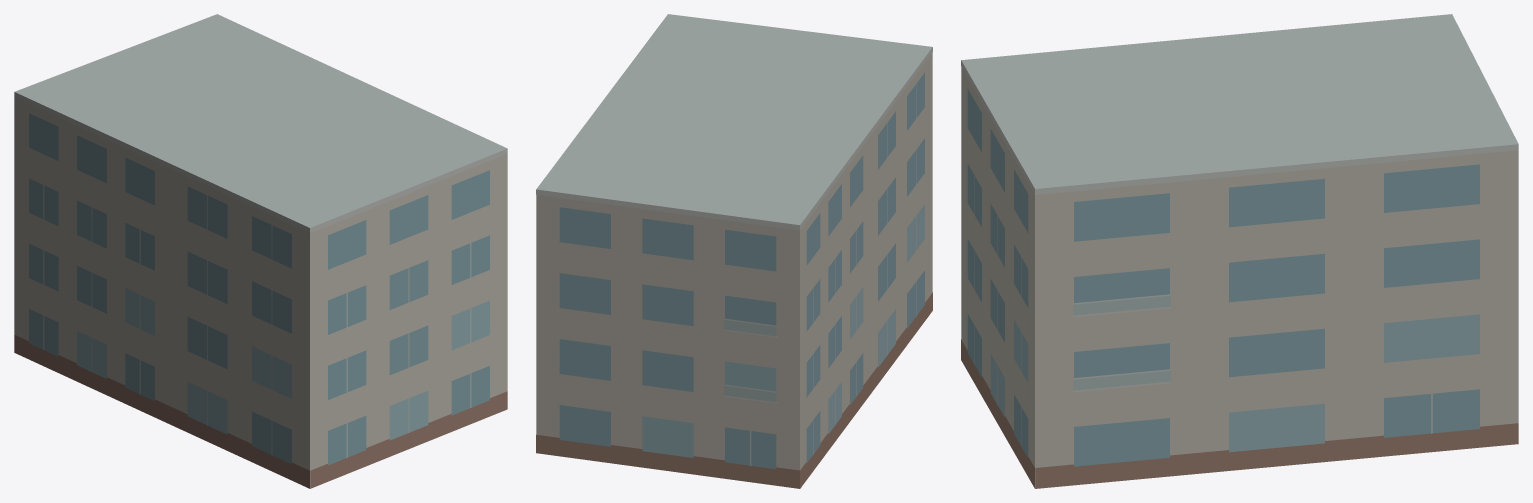
Rendered from survey-upis-33040755.glb.
The picture shows the model from 3 angles, left to right: view 1: azimuth 30°, elevation 25°; view 2: azimuth 150°, elevation 25°; view 3: azimuth 270°, elevation 25°; orthographic projection. The views are drawn at different scales.
Visible parts, largest first — view 1: survey-upis-33040755.tmp; view 2: survey-upis-33040755.tmp; view 3: survey-upis-33040755.tmp.
Part boxes in pixels (<box>): survey-upis-33040755.tmp: <box>14,14,507,488</box>; survey-upis-33040755.tmp: <box>536,14,932,488</box>; survey-upis-33040755.tmp: <box>961,14,1518,488</box>.
Bounding box in the file's own units: 15.28 × 12.2 × 20.57.
